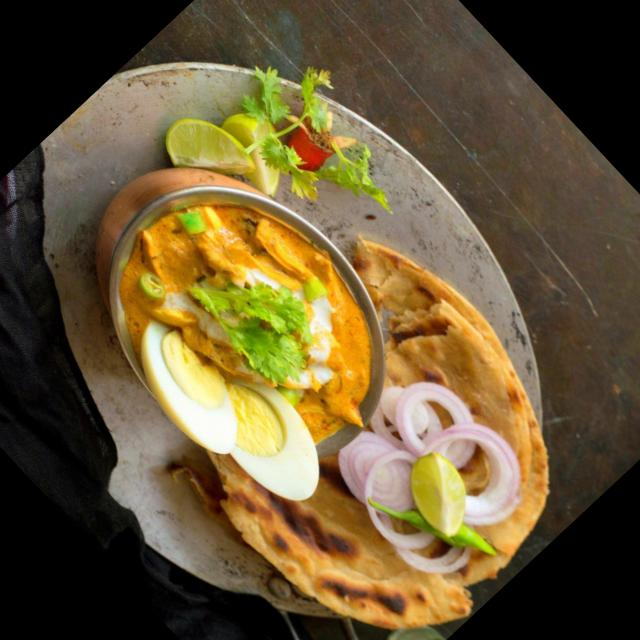chicken: (110, 165, 398, 457)
roti: (210, 238, 548, 629)
